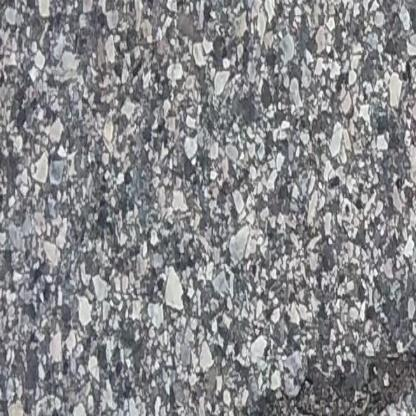Cracks: (236, 339, 416, 416)
